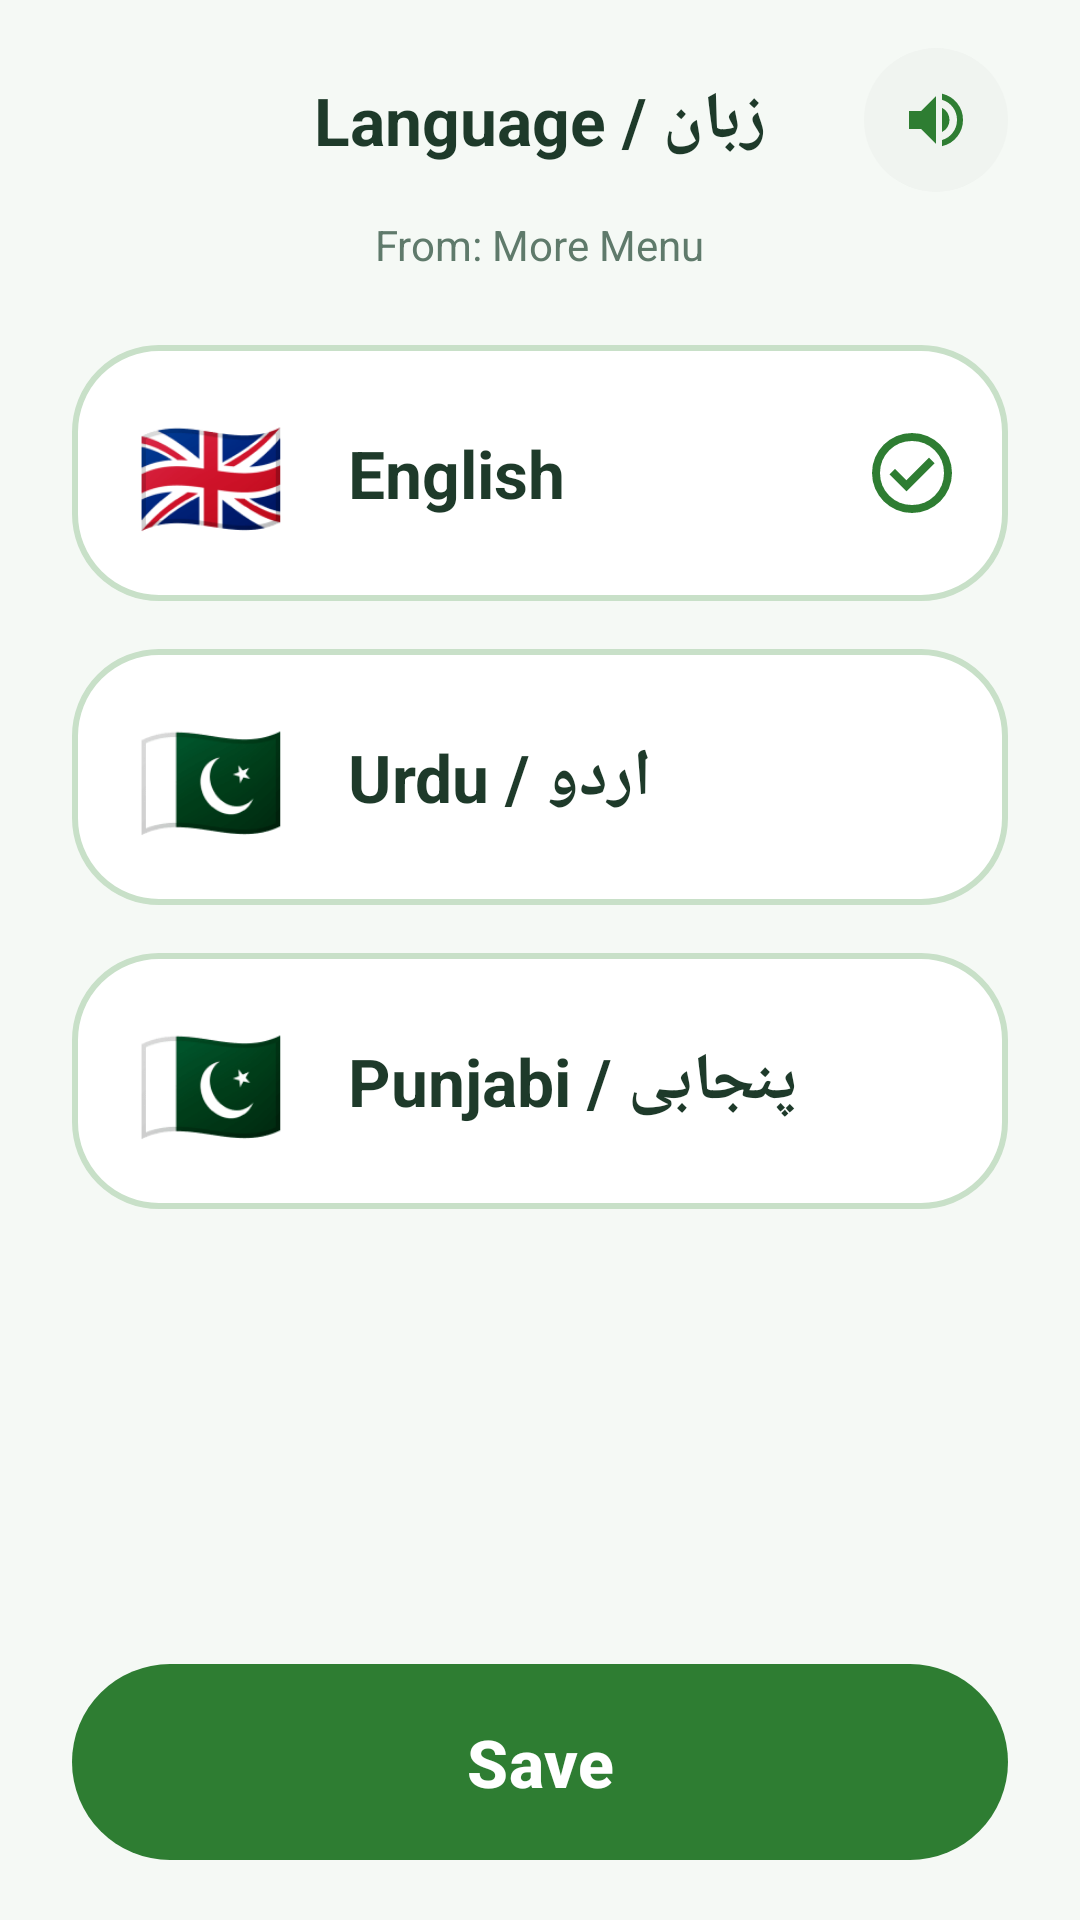

Where to tap for icons on this 1080x1920 app screen, as (x,y):
check: (912,473)
volume up: (936,119)
